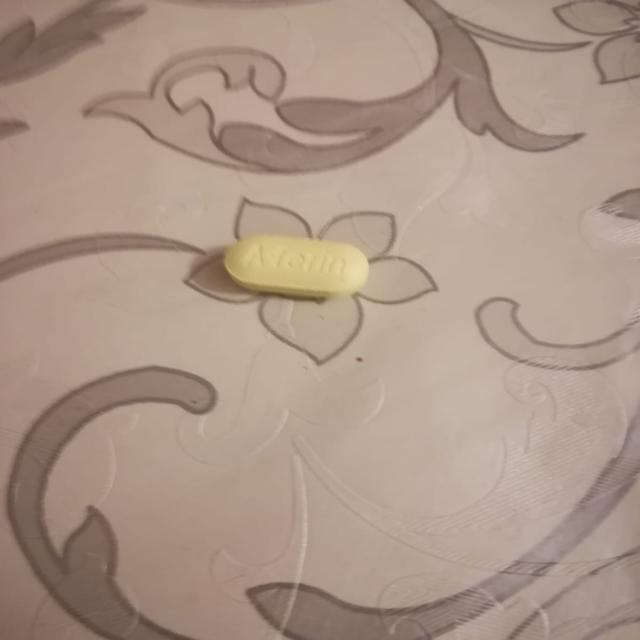pills: (210, 222, 378, 307)
